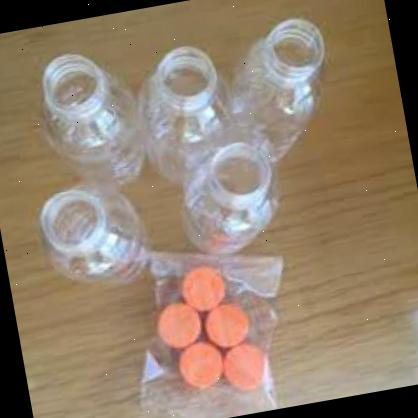bottle: (215, 6, 376, 145), (30, 170, 178, 318), (162, 130, 311, 262), (113, 37, 236, 181), (28, 38, 146, 186)
cap: (148, 296, 208, 350), (174, 334, 225, 394), (178, 264, 230, 317), (204, 302, 254, 354), (222, 344, 270, 394)
